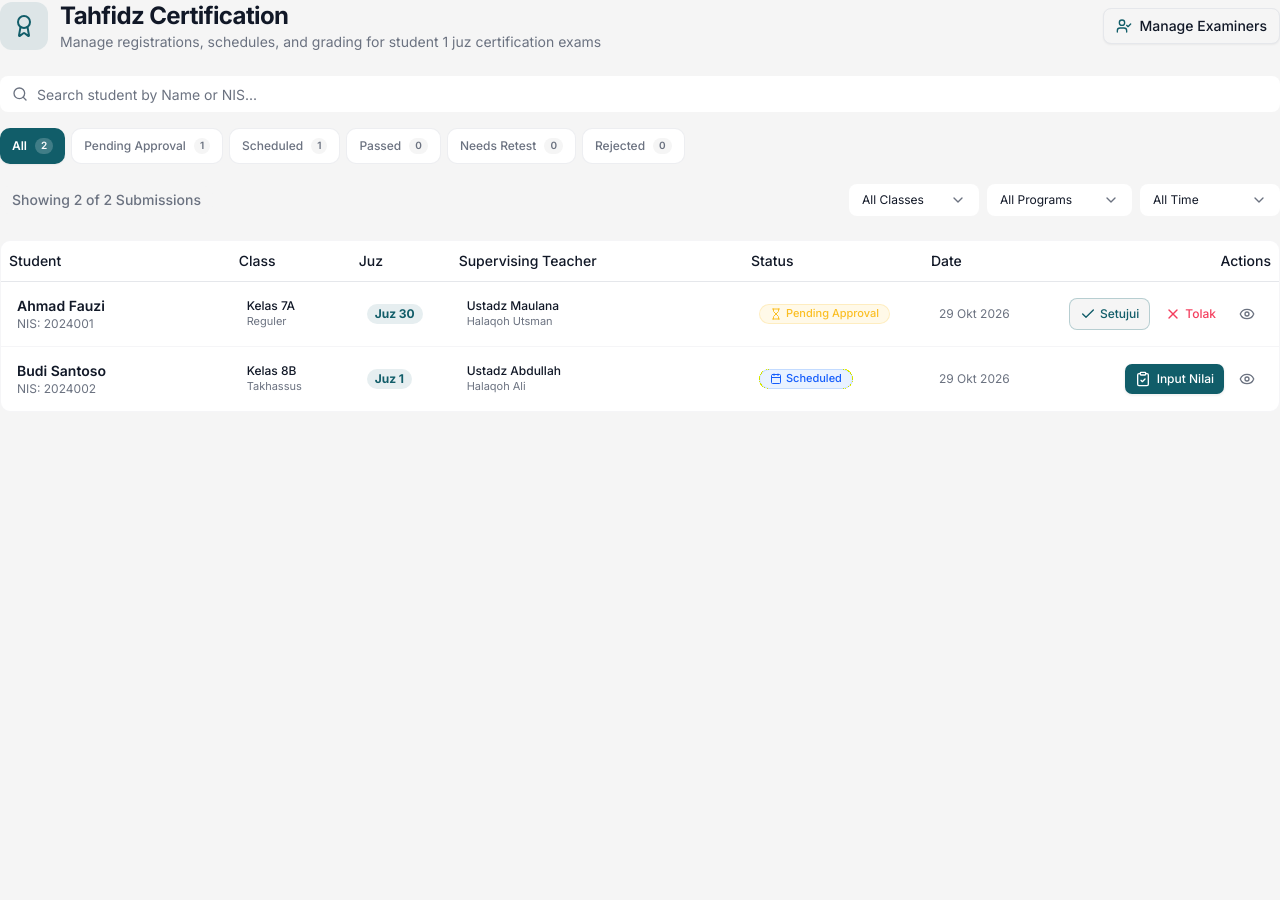
SertifikasiTahfidzPage Integration Test › should open schedule dialog when clicking Setujui on pending item
Click the button with aria-label "Setujui pengajuan Ahmad Fauzi" at point(1110, 314), box [1069,298,1150,330]
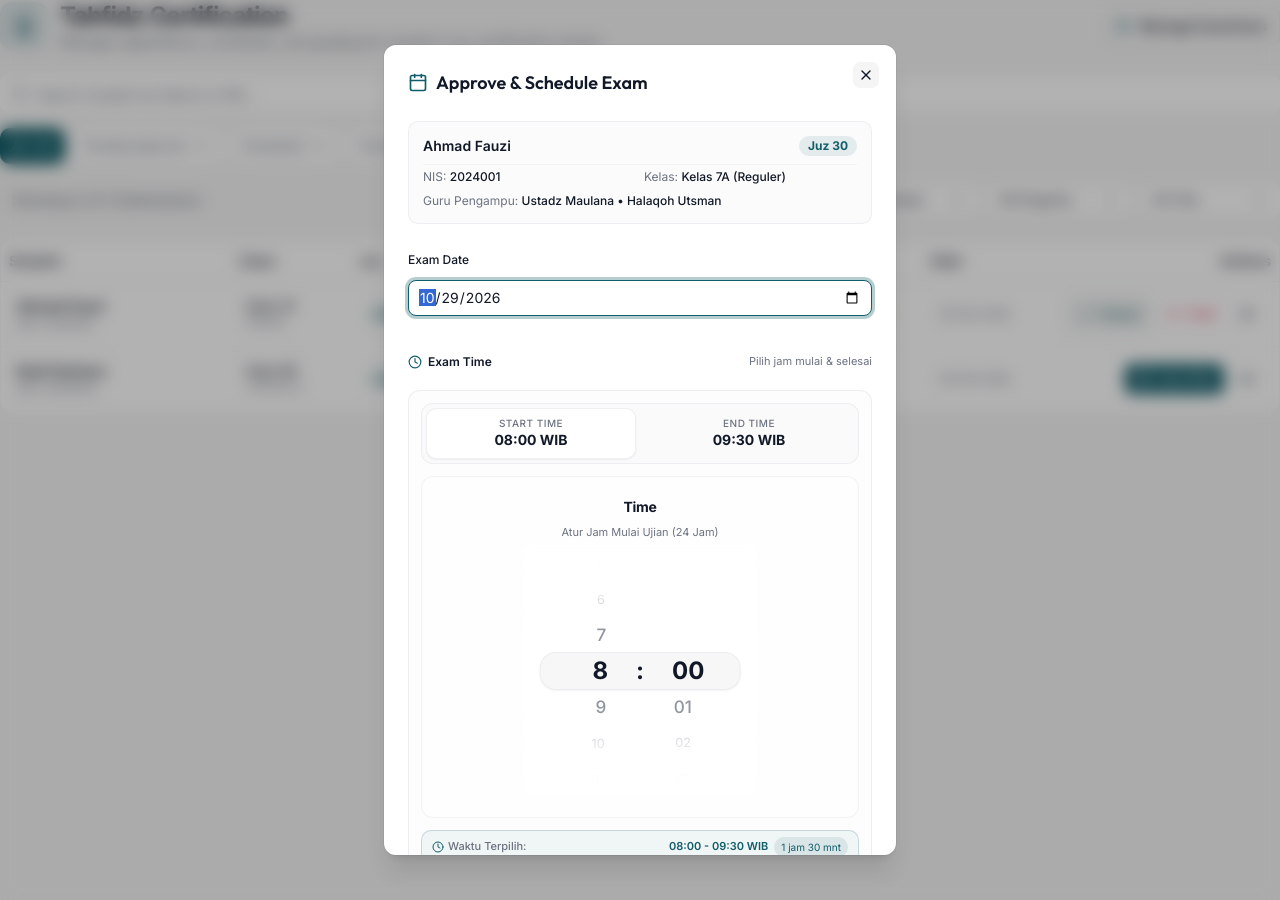
expect the heading "Approve & Schedule Exam" is shown: met, box [408,71,648,94]
